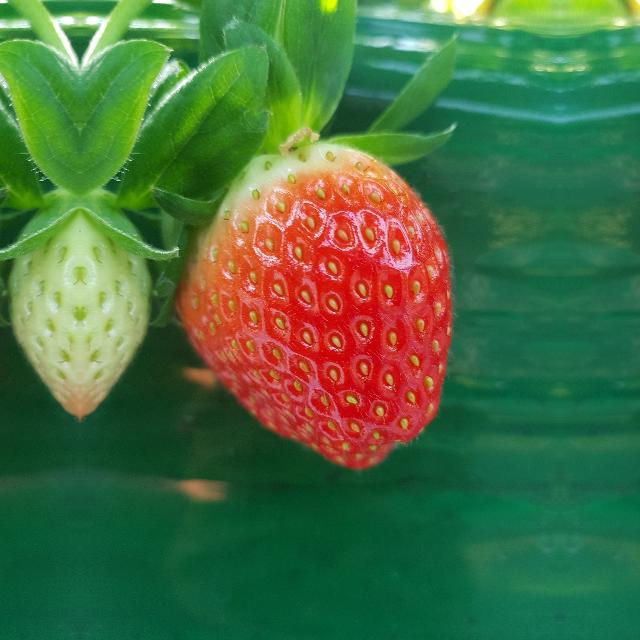Health_100: (172, 142, 454, 470)
Health_50: (80, 187, 146, 425), (14, 187, 80, 425)
